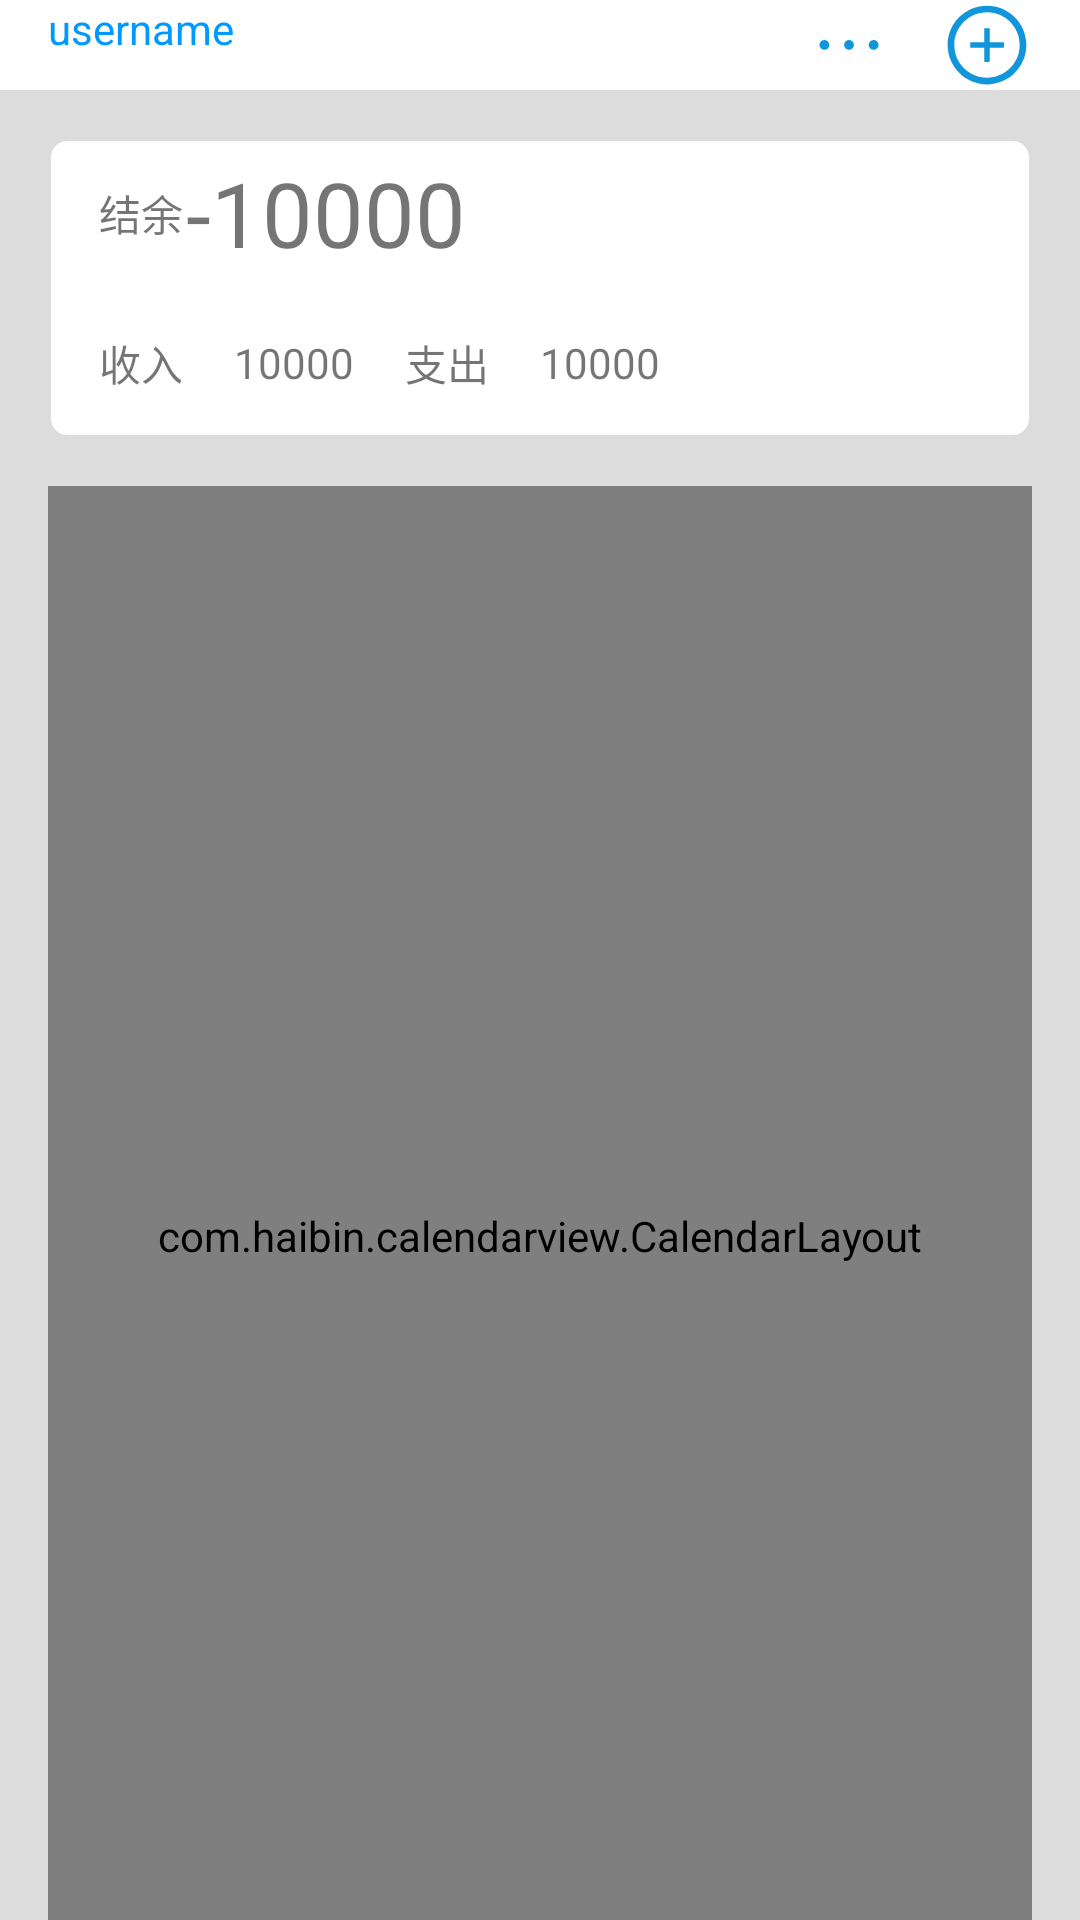

Icon bounding boxes for this 1080px x 1920px phone screenshot, format (x1, y1, x2, y2):
add: (947, 5, 1027, 85)
more: (819, 40, 879, 50)
